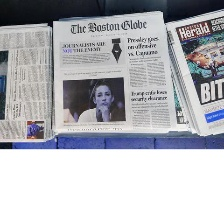news_paper: (50, 15, 177, 137), (163, 7, 224, 136), (0, 22, 54, 145)
